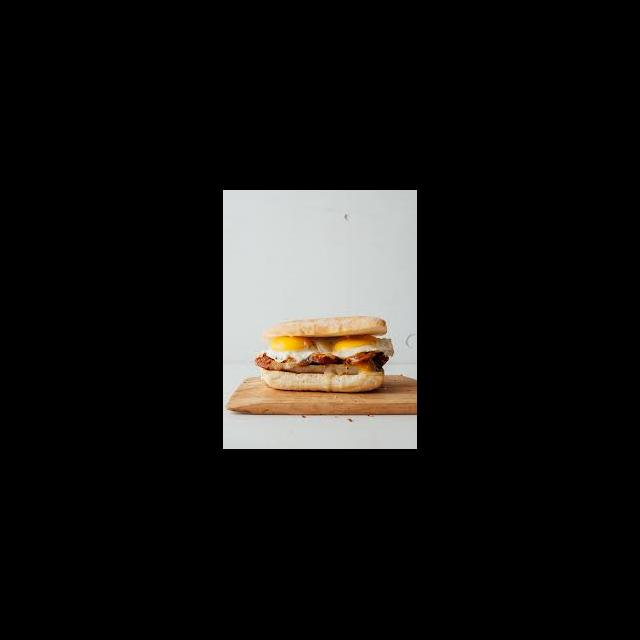food_waste: (254, 320, 413, 392)
